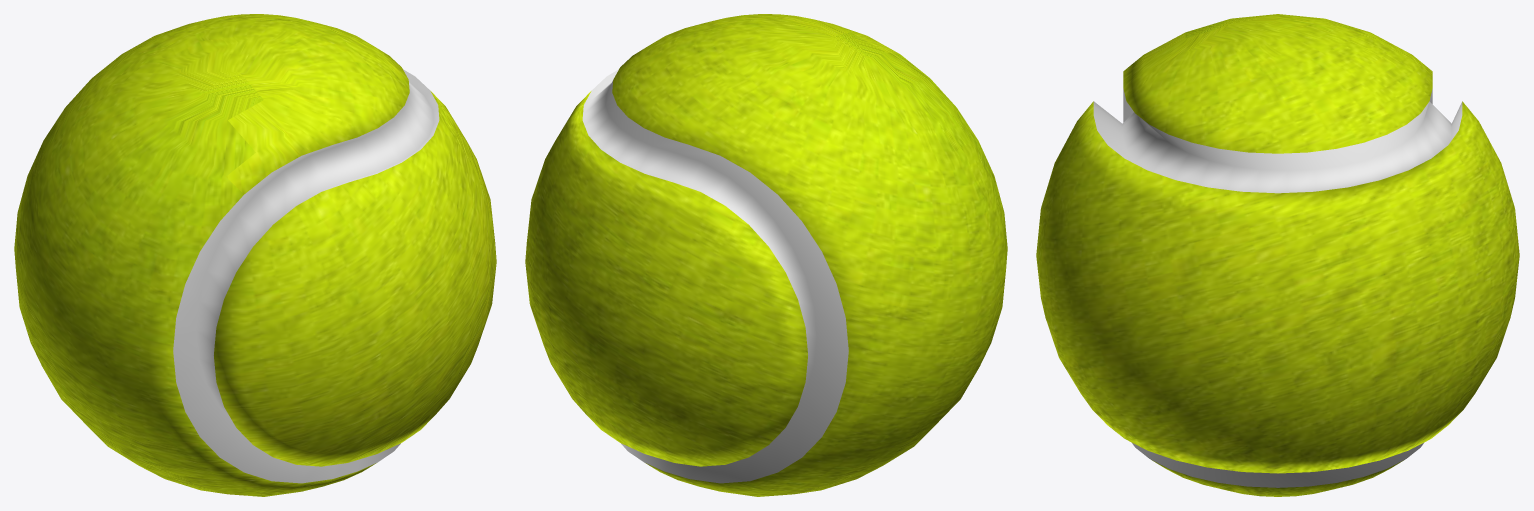
File: better_tennisball.glb
3 renders of one model, left to right at view 1: azimuth 30°, elevation 25°; view 2: azimuth 150°, elevation 25°; view 3: azimuth 270°, elevation 25°, orthographic.
Parts seen in each view (by area): view 1: Sphere; view 2: Sphere; view 3: Sphere.
Boxes of the visible parts, bbox=[...] form: Sphere: bbox=[14, 14, 496, 496]; Sphere: bbox=[525, 14, 1007, 496]; Sphere: bbox=[1036, 14, 1519, 496].
Size of the model in its own units: 0.068 by 0.068 by 0.068.
Materials: 2 (1 with a texture image).
